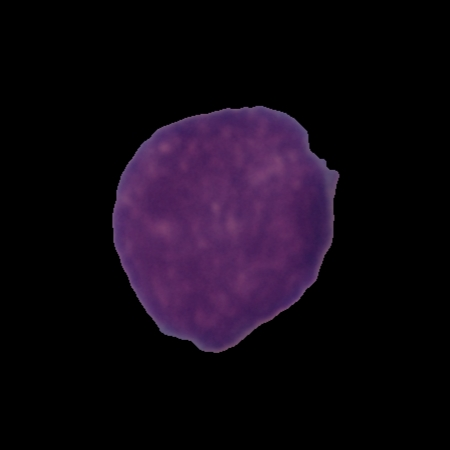HEM: (108, 102, 342, 355)
